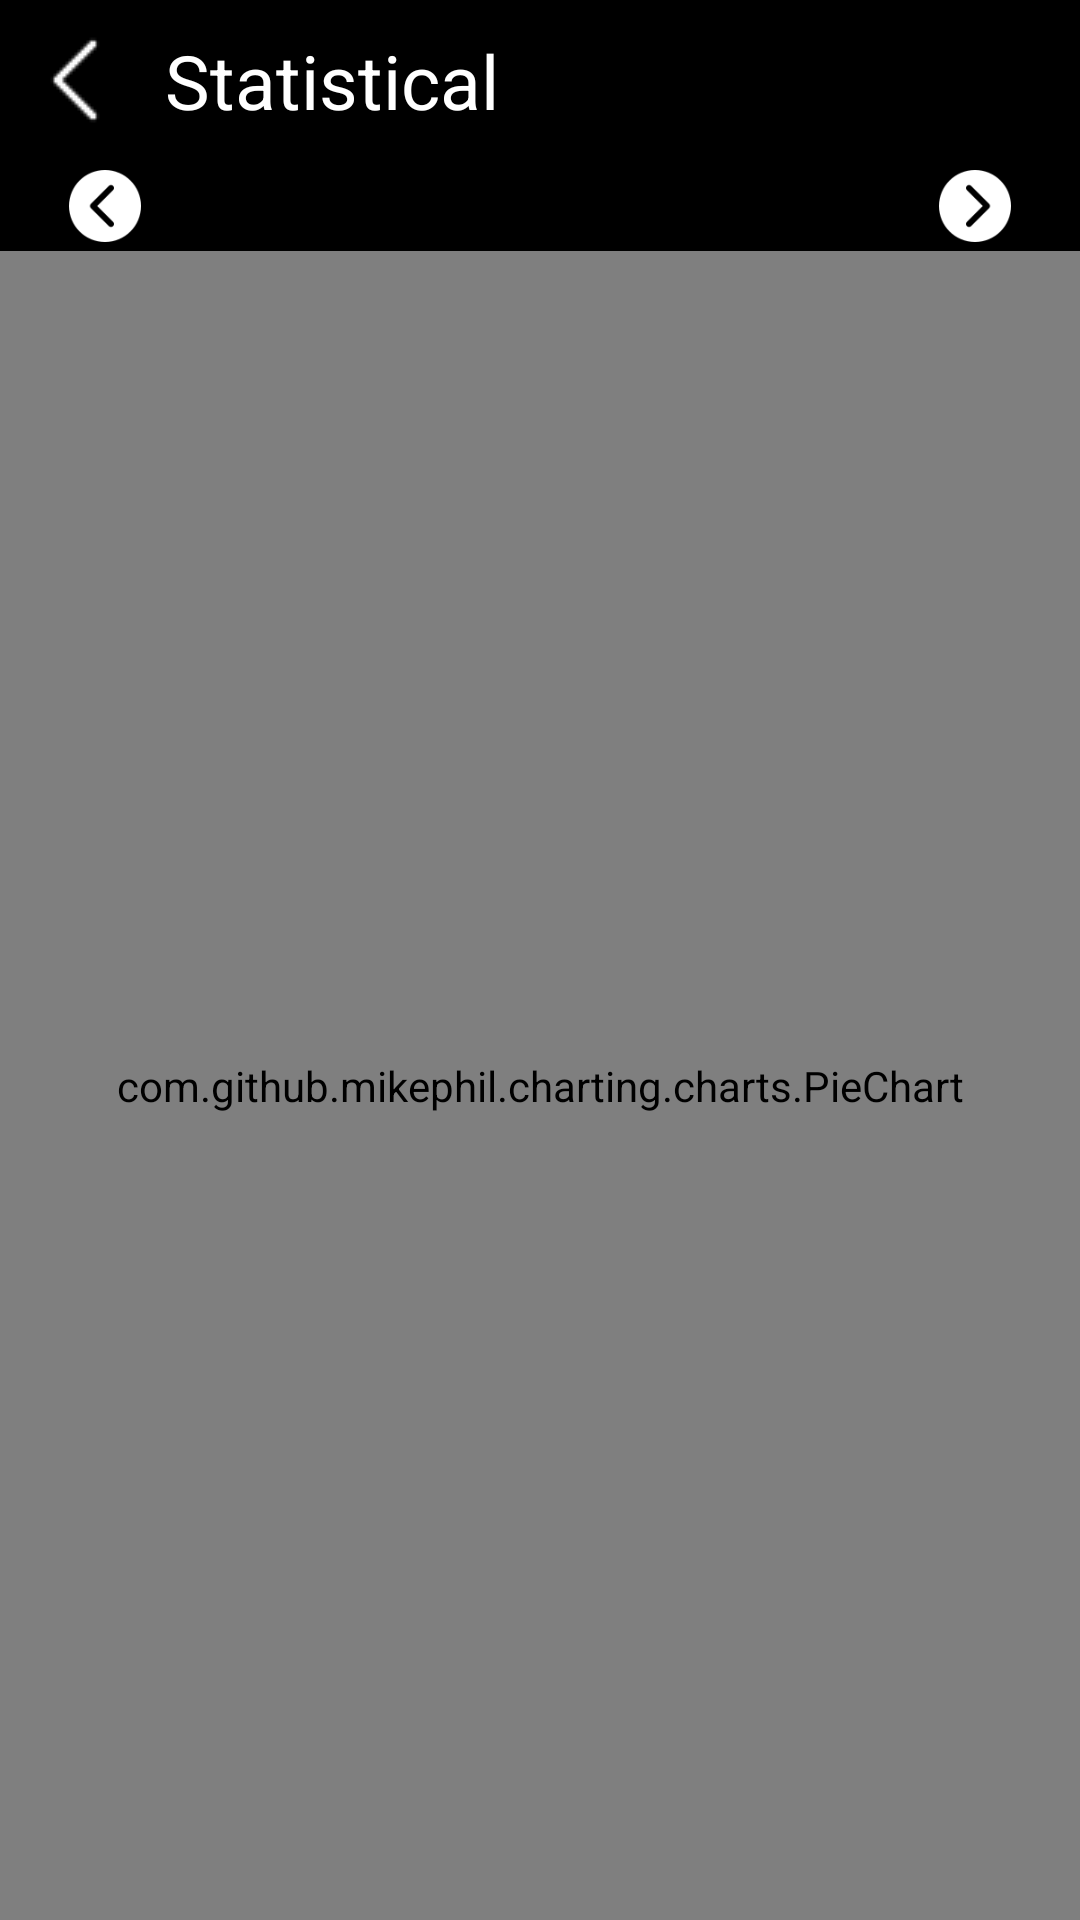

Screen size 1080 × 1920. Icon name, then its center in pixels as point (x, y):
back: point (75, 80)
next: point (975, 206)
previus: point (105, 206)
